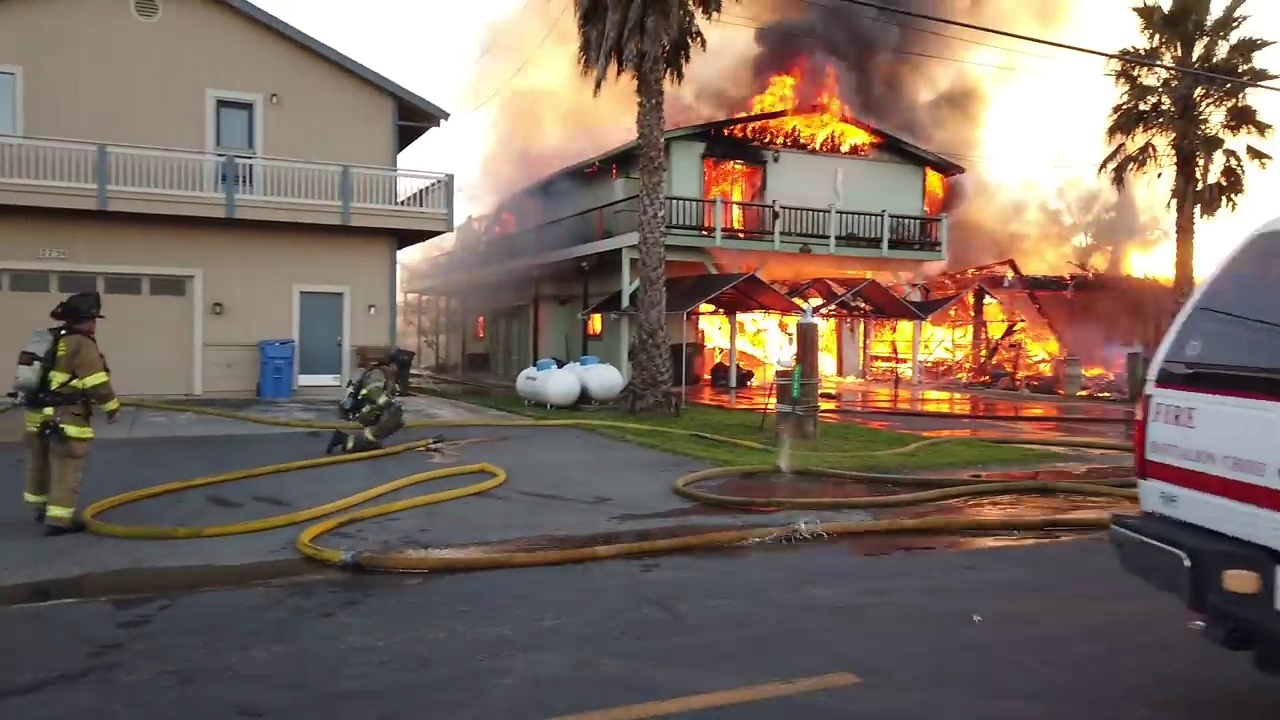fire: (681, 276, 1060, 396), (729, 63, 874, 152), (698, 160, 750, 229), (1076, 355, 1119, 404), (922, 161, 951, 216), (584, 313, 606, 344), (467, 314, 493, 340), (494, 211, 517, 234)
smoke: (394, 178, 592, 341), (454, 2, 600, 209), (852, 2, 1000, 158), (953, 180, 1173, 271), (741, 4, 852, 57), (668, 56, 730, 123)
